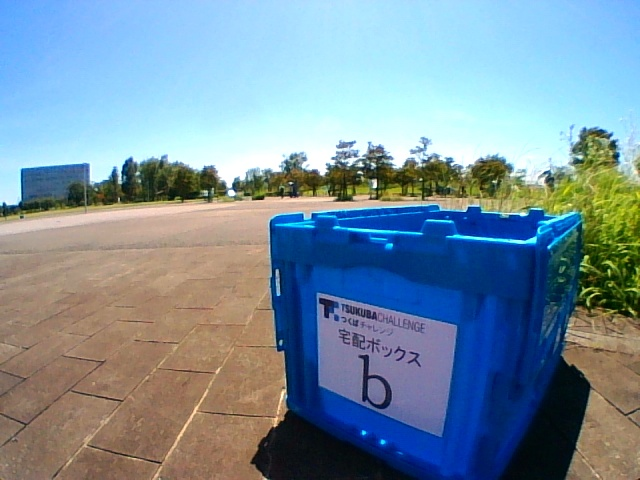blue_box: (271, 208, 576, 421)
tag_b: (357, 334, 438, 409)
